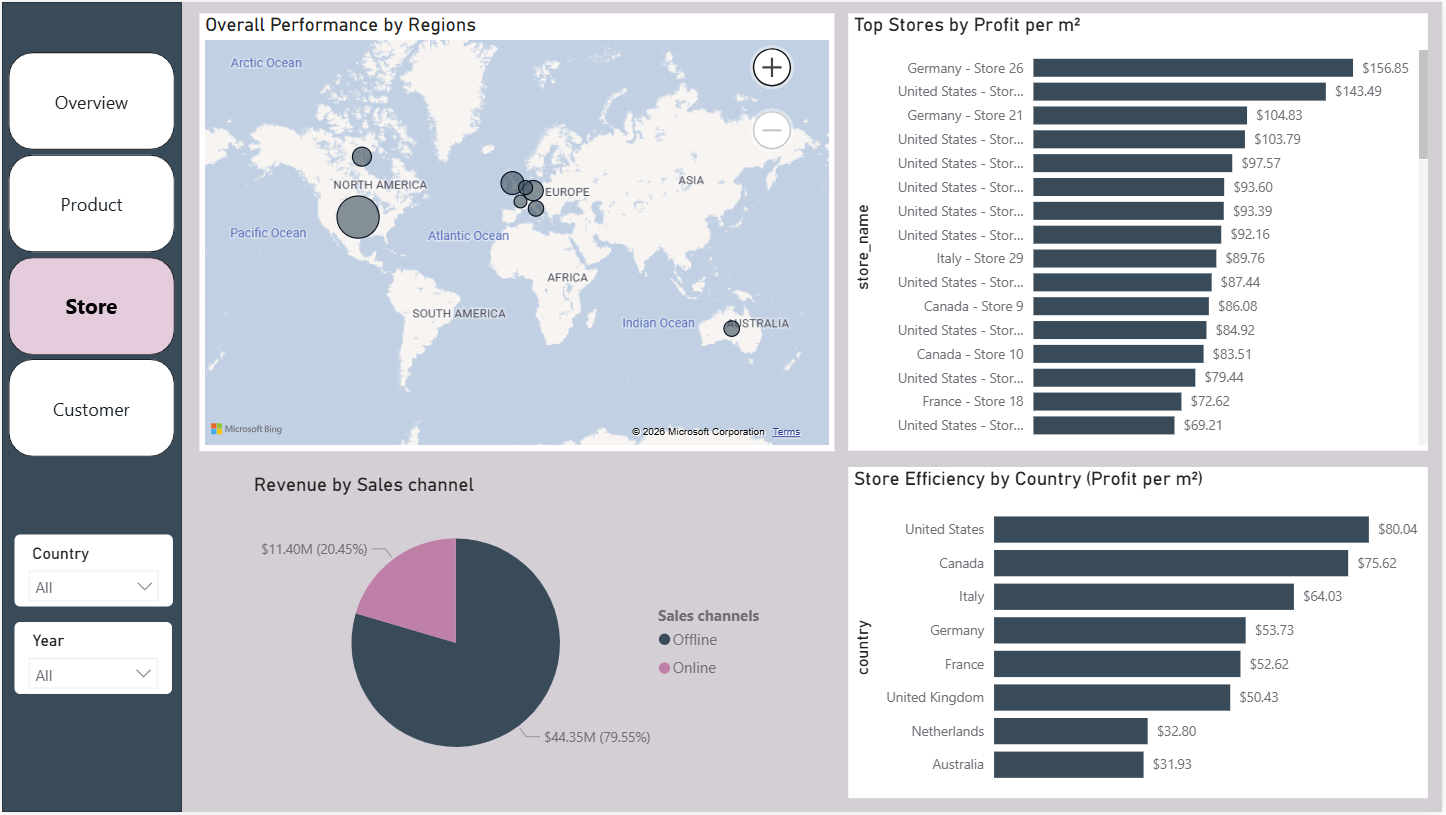

The dashboard page shown, as its layout file describes it:
{"tool":"powerbi","page":{"name":"Store","canvas":[1280,720],"ordinal":2},"visuals":[{"type":"shape","box":[0,0,160,720],"z":0},{"type":"pieChart","title":"Revenue by Sales channel","fields":{"Category":["store_sum.sales_channel"],"Y":["Sum(store_sum.total_revenue)"]},"box":[218.8,418.8,476.2,282.5],"z":1000},{"type":"map","title":"Overall Performance by Regions","fields":{"Category":["offline_sum.country Hierarchy.country","offline_sum.country Hierarchy.state"],"Size":["Sum(offline_sum.total_revenue)"]},"box":[175,10,564,389],"z":2000},{"type":"slicer","fields":{"Values":["YearTable.order_year"]},"box":[10.9,551.6,140,64],"z":3000},{"type":"slicer","fields":{"Values":["offline_sum.country"]},"box":[10.9,473.8,141.1,64],"z":4000},{"type":"barChart","title":"Store Efficiency by Country (Profit per m²)","fields":{"Y":["Avg(offline_sum.profit_per_m2)"],"Category":["offline_sum.country Hierarchy.country","offline_sum.country Hierarchy.state"]},"box":[752,413,515,294],"z":5000},{"type":"barChart","title":"Top Stores by Profit per m²","fields":{"Category":["offline_sum.store_name"],"Y":["Avg(offline_sum.profit_per_m2)"]},"box":[752,10,515,389],"z":6000},{"type":"pageNavigator","box":[5.6,44.4,148.9,362.2],"z":7000}]}

Visuals, with their boxes in screenshot pixels (x1, y1, x2, y2), scaled from the page's 1280x720 canvas onto the 1446x815 screenshot:
shape: 0:0:181:814
"Revenue by Sales channel" pieChart: 247:474:785:794
"Overall Performance by Regions" map: 198:11:835:452
slicer - YearTable.order_year: 12:624:170:697
slicer - offline_sum.country: 12:536:172:609
"Store Efficiency by Country (Profit per m²)" barChart: 850:467:1431:800
"Top Stores by Profit per m²" barChart: 850:11:1431:452
pageNavigator: 6:50:175:460
